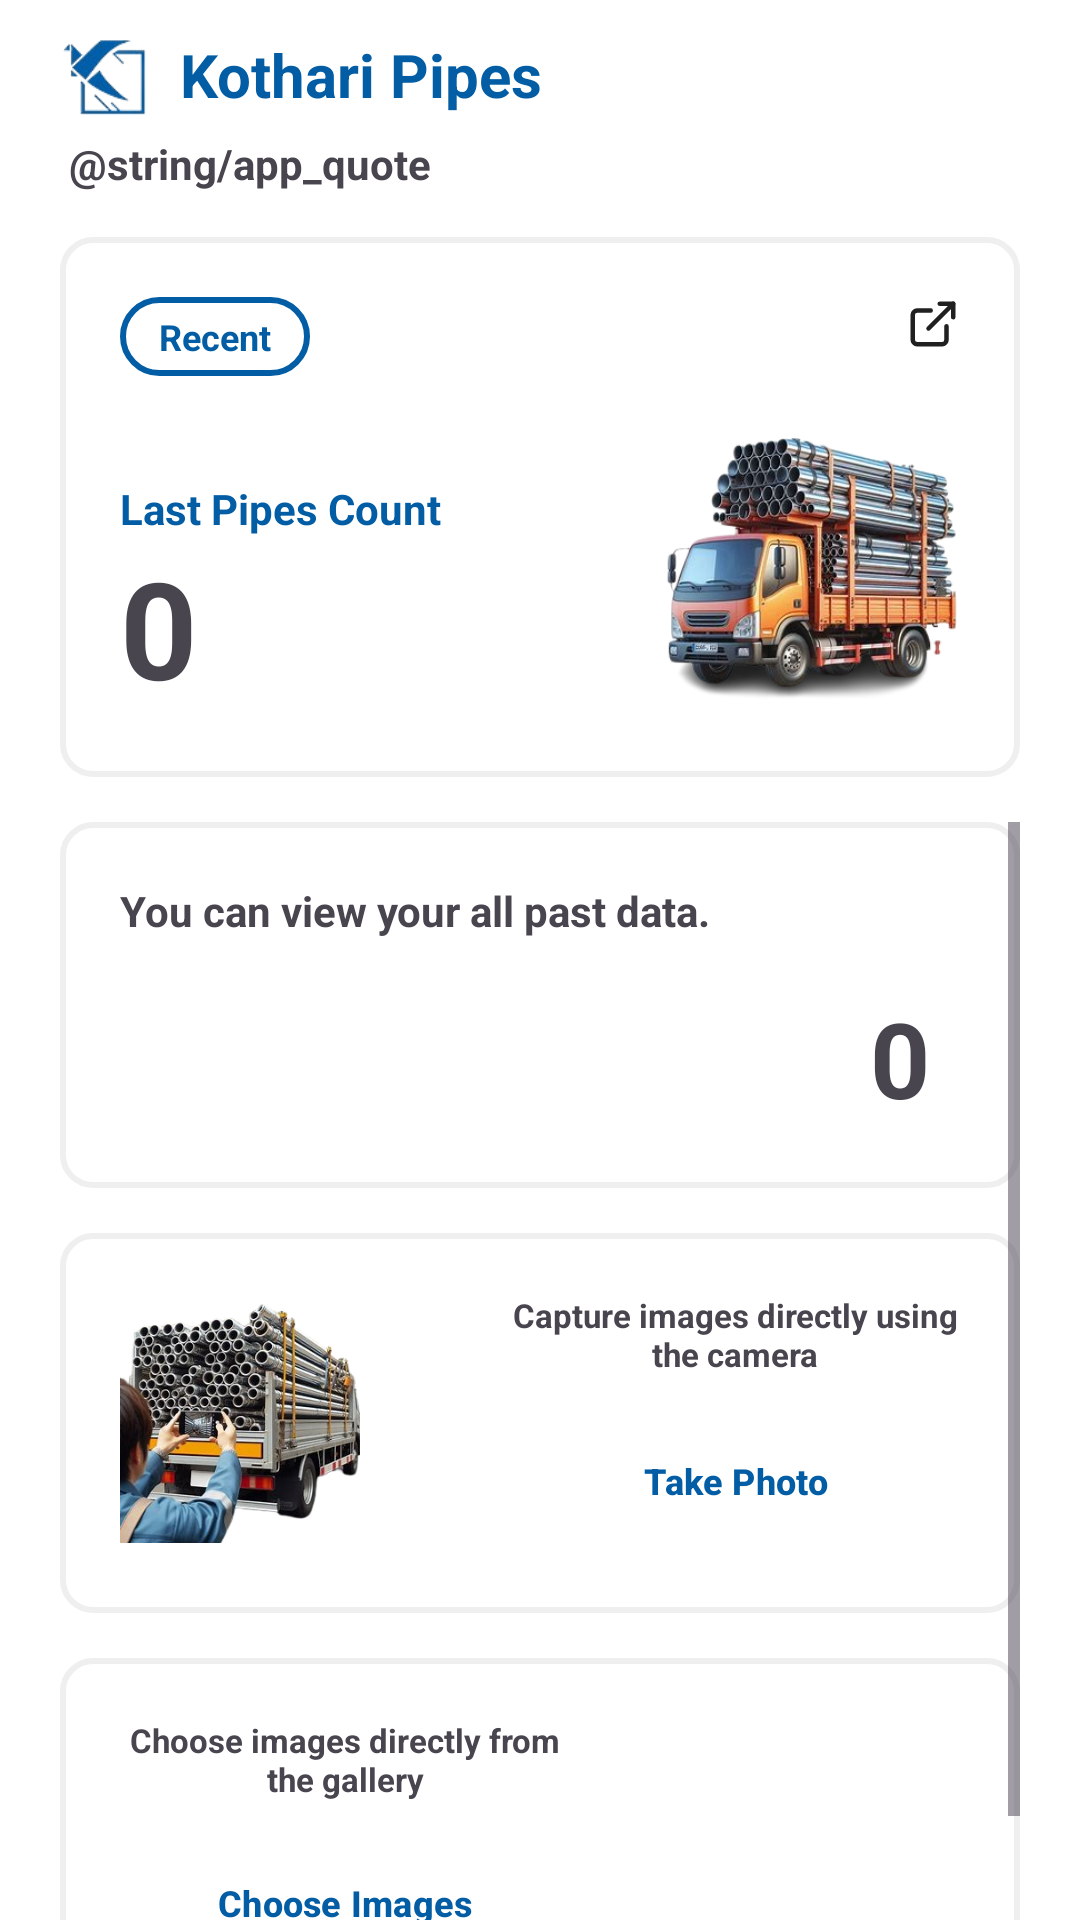

Icons on this 1080x1920 Android screen, each with its box as region(x1, y1, x2, y2):
open: region(910, 301, 956, 347)
pipes camera: region(120, 1304, 360, 1543)
pipes truck: region(667, 438, 957, 696)
